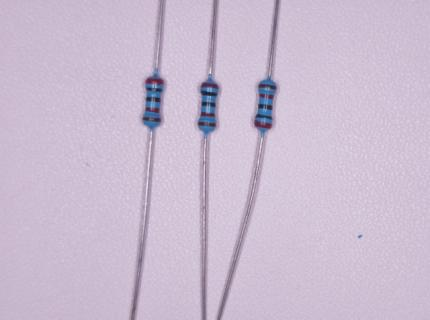Black band: (255, 114, 273, 120), (147, 96, 160, 103), (259, 104, 273, 110), (202, 91, 217, 96), (202, 102, 216, 107), (146, 88, 162, 92)
Brown band: (258, 85, 276, 90), (143, 117, 160, 122), (199, 122, 216, 126)
Red band: (256, 121, 272, 128), (145, 107, 160, 113), (259, 93, 274, 99), (201, 83, 218, 88), (146, 79, 164, 83), (201, 113, 215, 116)
